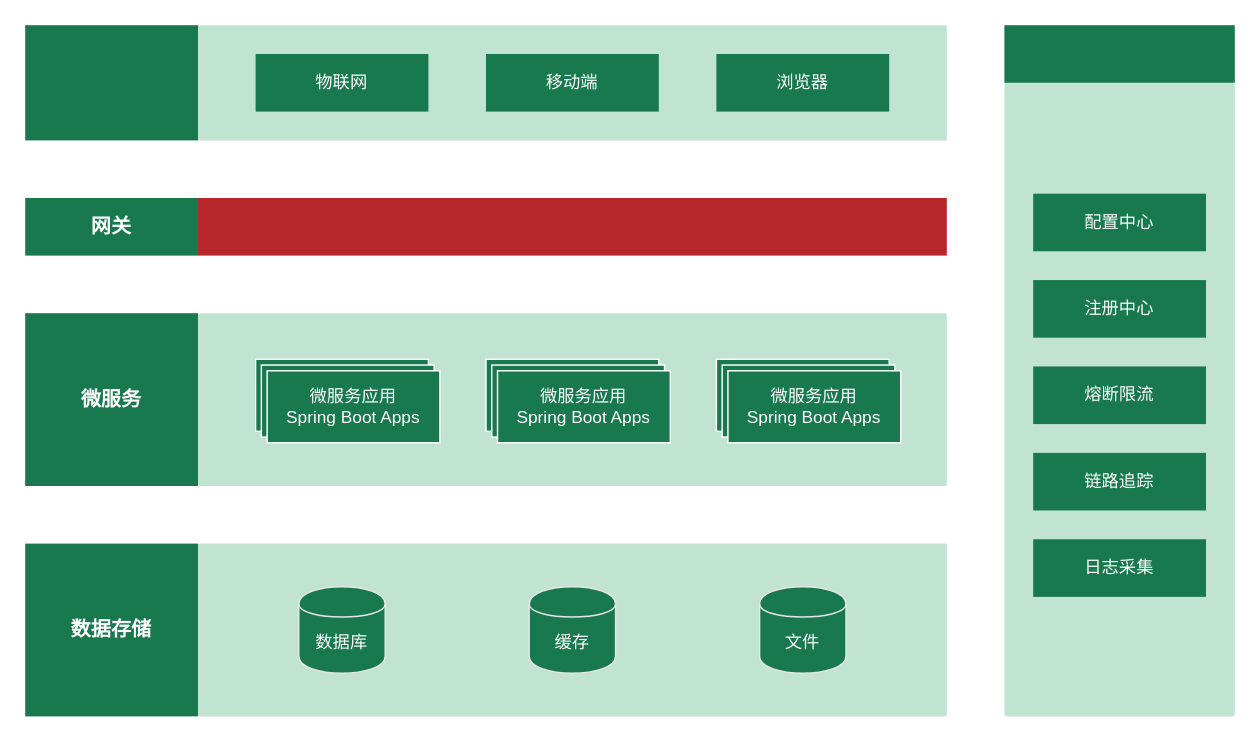
The diagram is 1259 pixels wide and 740 high, and some of its shapes have lost their labels. The centre of each missing label's shape, as x and y in pixels:
公共服务: pixel 1119 53
客户端: pixel 110 82
微服务网关: pixel 571 226
